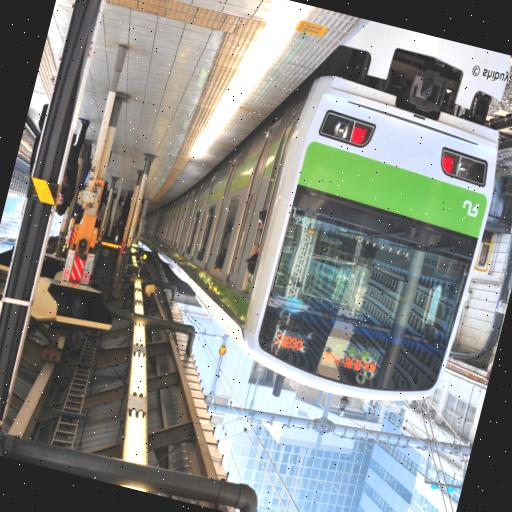platform_edge: (161, 0, 362, 221)
